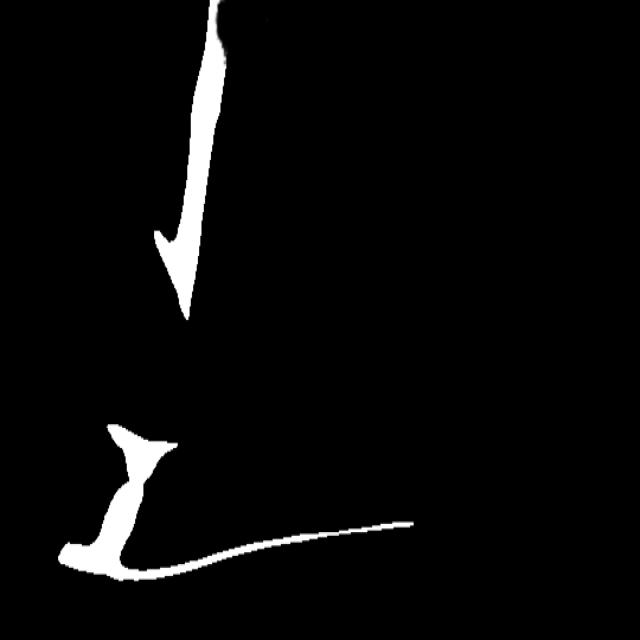sl: (198, 0, 232, 62)
